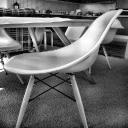chair_success: (0, 6, 125, 128)
